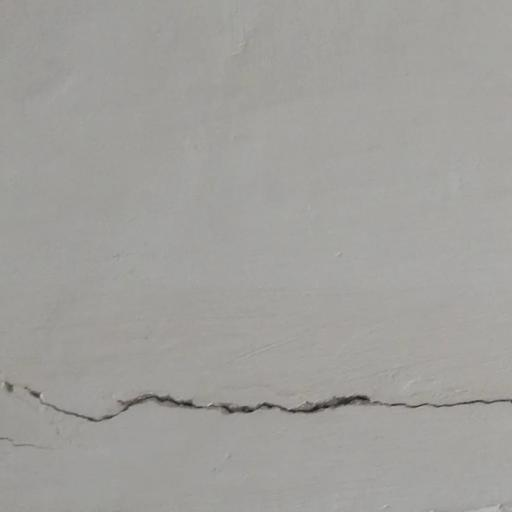major_crack: (0, 365, 512, 471)
